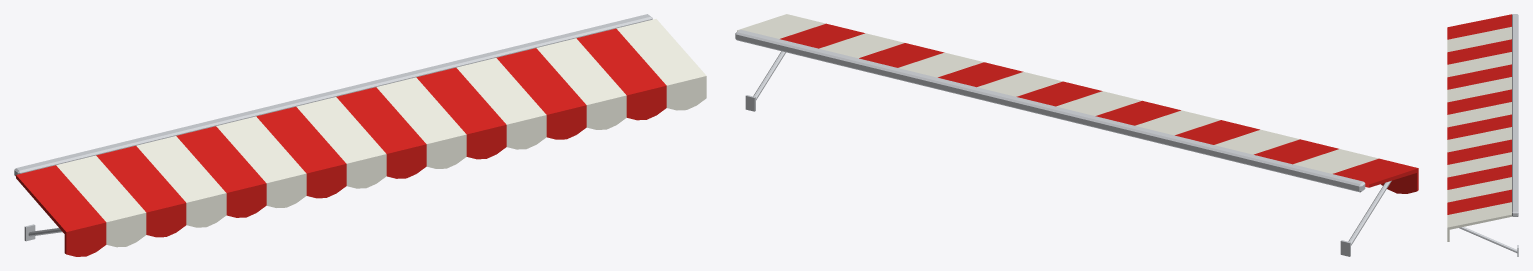
The model's file is toldo_frente_mediano.glb.
3 renders of one model, left to right at view 1: azimuth 30°, elevation 25°; view 2: azimuth 150°, elevation 25°; view 3: azimuth 270°, elevation 25°, orthographic. The views are drawn at different scales.
Visible parts, largest first — view 1: pieza_tramo, pieza_punta_izq, pieza_punta_der; view 2: pieza_tramo, pieza_punta_izq, pieza_punta_der; view 3: pieza_tramo, pieza_punta_der, pieza_punta_izq.
Boxes of the visible parts, left/top/right/bottom form: pieza_tramo: left=92, top=32, right=626, bottom=237; pieza_punta_izq: left=14, top=149, right=146, bottom=256; pieza_punta_der: left=572, top=14, right=706, bottom=120; pieza_tramo: left=810, top=33, right=1338, bottom=174; pieza_punta_izq: left=1284, top=149, right=1418, bottom=256; pieza_punta_der: left=735, top=14, right=864, bottom=111; pieza_tramo: left=1447, top=37, right=1518, bottom=202; pieza_punta_der: left=1447, top=188, right=1518, bottom=256; pieza_punta_izq: left=1447, top=14, right=1518, bottom=52.
Bounding box in the file's own units: 2.4 × 0.27 × 0.362.
